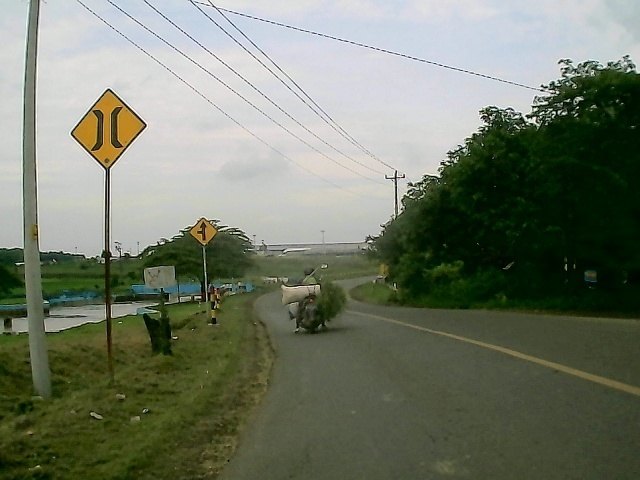Jembatan: (67, 85, 150, 171)
Simpang kiri dengan prioritas: (188, 217, 219, 247)
